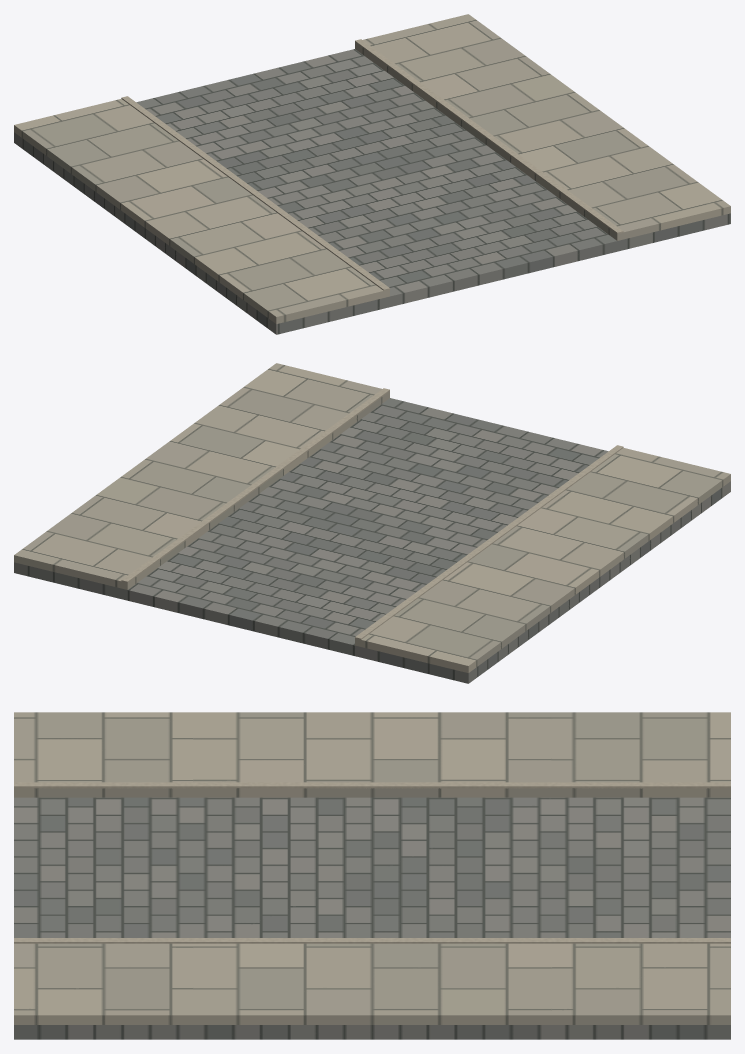
File: Road_Straight.fbx
The picture shows the model from 3 angles, top to bottom: view 1: azimuth 30°, elevation 25°; view 2: azimuth 150°, elevation 25°; view 3: azimuth 270°, elevation 25°; orthographic projection. The views are drawn at different scales.
Parts seen in each view (by area): view 1: Road_Straight.001; view 2: Road_Straight.001; view 3: Road_Straight.001.
Part boxes in pixels (x1,y1,x2,y2): Road_Straight.001: (14,14,730,334); Road_Straight.001: (14,363,730,683); Road_Straight.001: (14,712,730,1039).
Bounding box in the file's own units: 8 × 0.3195 × 8.
